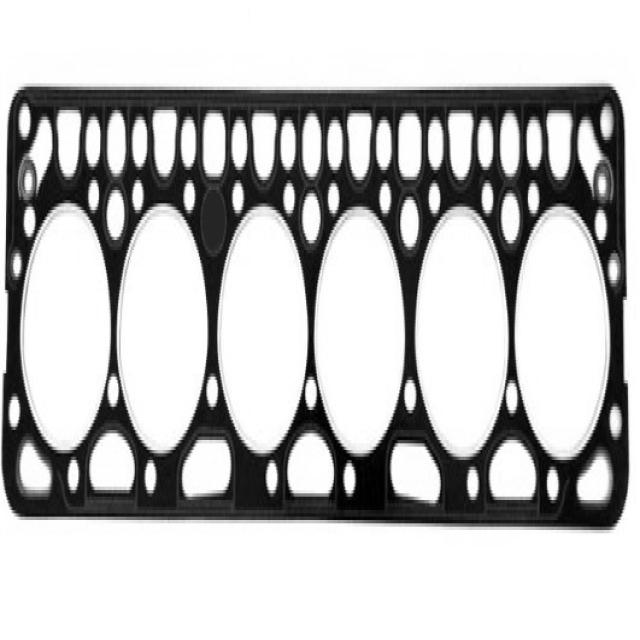missing hole: (191, 165, 240, 257)
